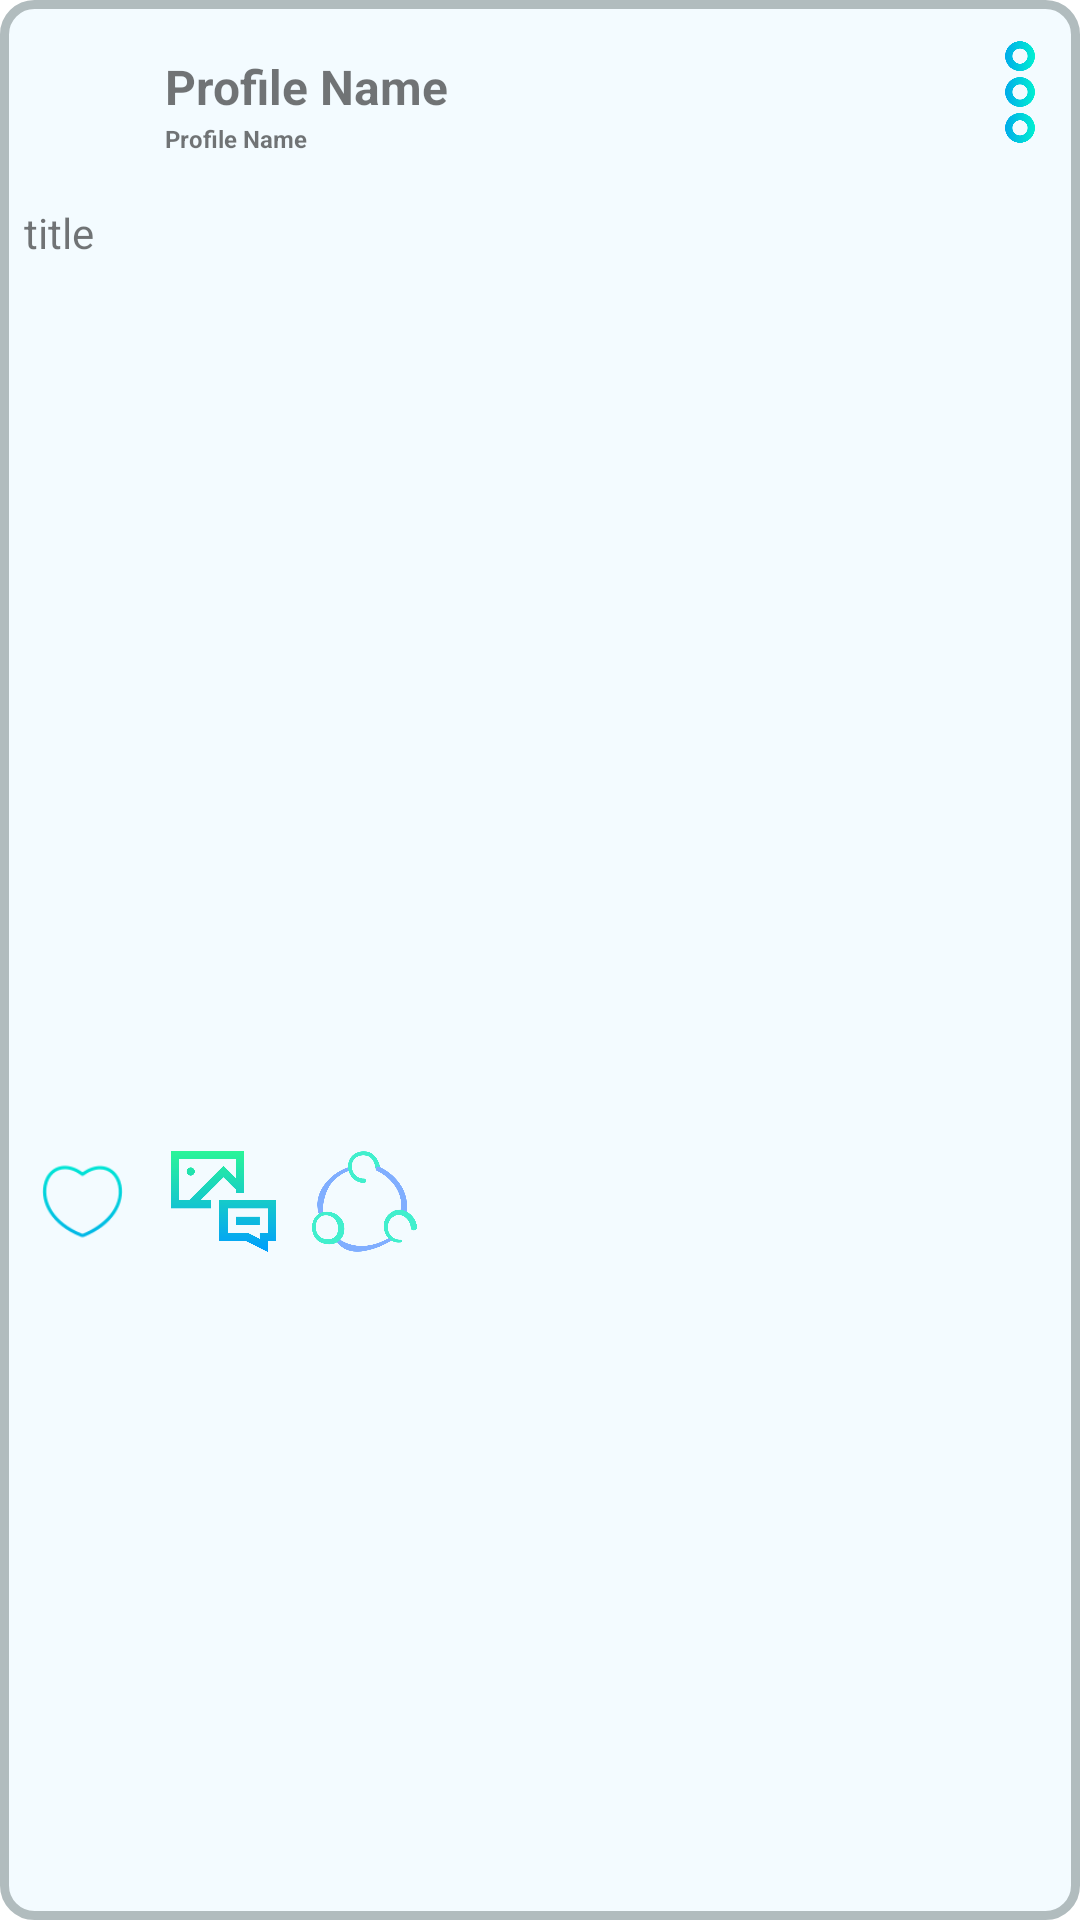

Where to tap for icons on this 1080 × 1920 app screen, as [x,y]:
comment: [223,1201]
heart: [82,1201]
more: [1020,92]
share: [364,1201]
